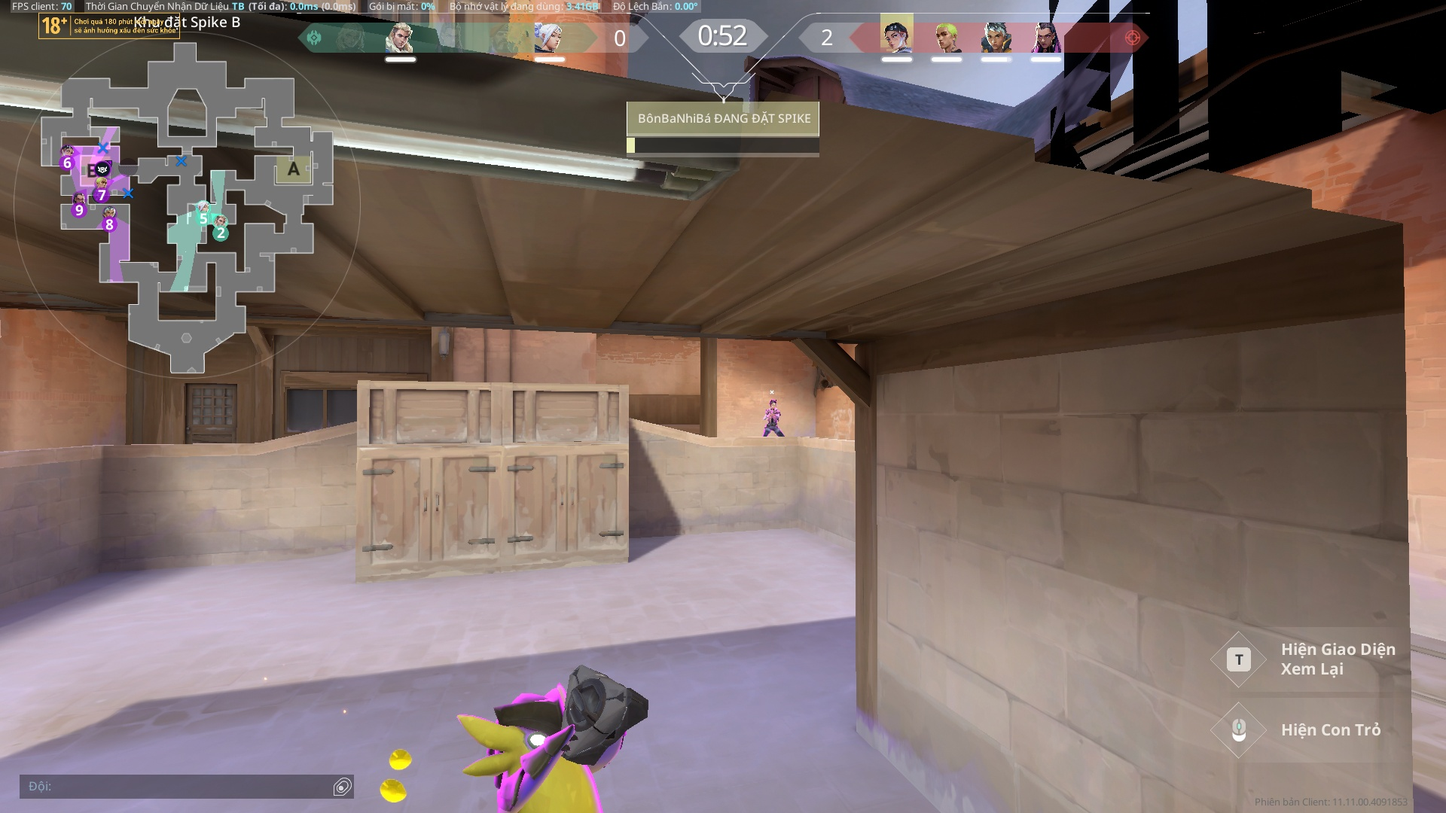body: (766, 408, 781, 426)
head: (768, 398, 776, 409)
